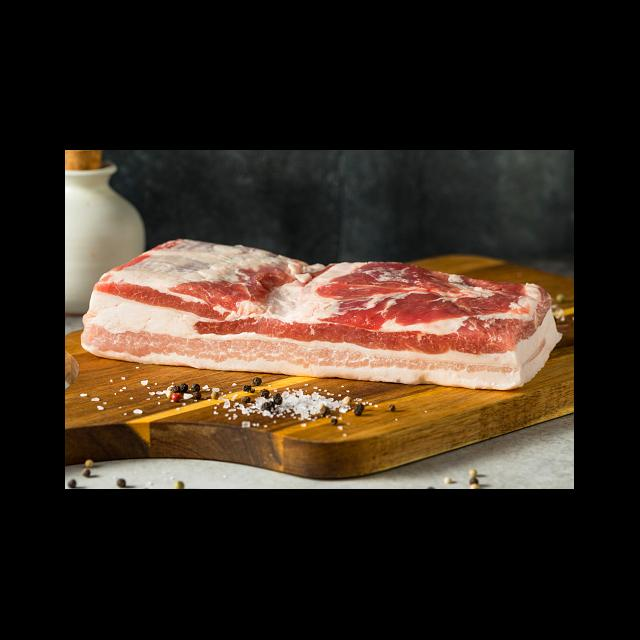pork: (292, 255, 562, 388), (84, 238, 284, 370)
